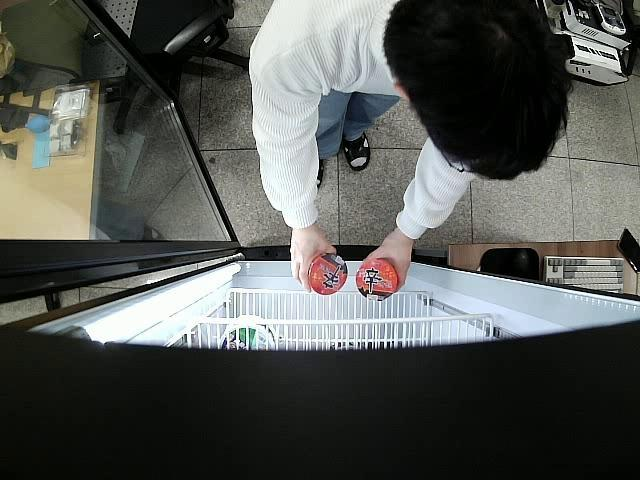02_shinRamen_S: (356, 258, 398, 301), (307, 253, 348, 294)
